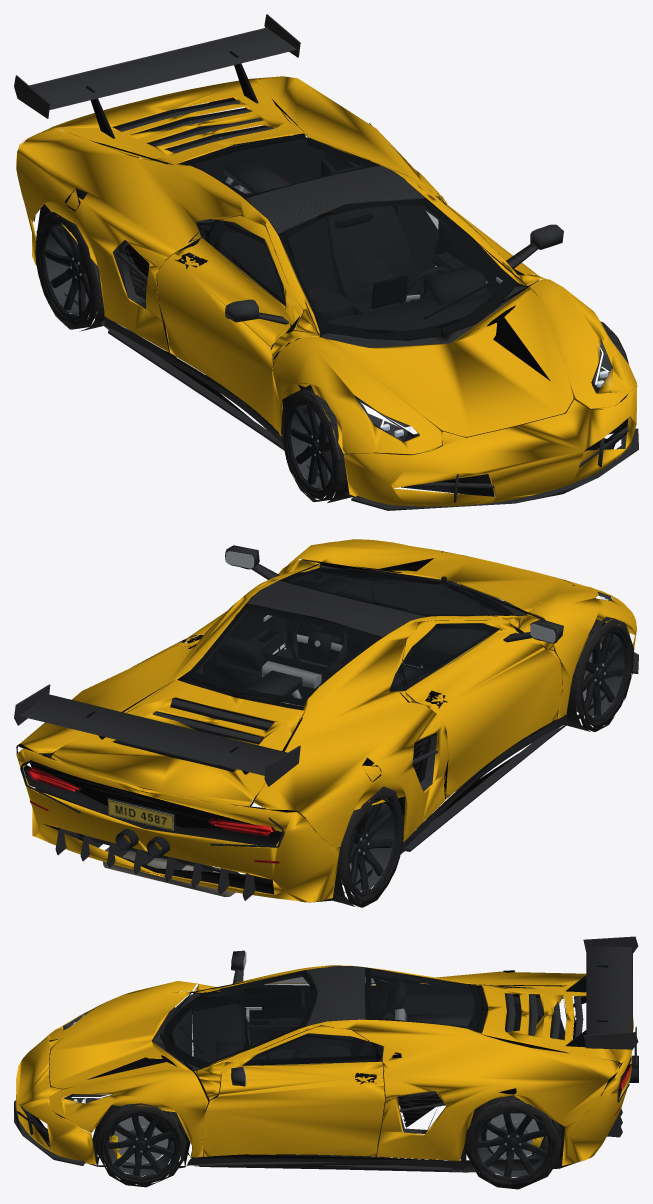
Rendered from mid-engine-supercar.glb.
The picture shows the model from 3 angles, top to bottom: view 1: azimuth 30°, elevation 25°; view 2: azimuth 150°, elevation 25°; view 3: azimuth 270°, elevation 25°; orthographic projection. The views are drawn at different scales.
Parts seen in each view (by area): view 1: Body, Wheel_RR, Wheel_FR; view 2: Body, Wheel_RR, Wheel_FR, Steering_Wheel; view 3: Body, Wheel_RL, Wheel_FL.
Part boxes in pixels (x1,y1,x2,y2): Body: [14, 14, 638, 510]; Wheel_RR: [35, 211, 146, 331]; Wheel_FR: [281, 387, 354, 503]; Body: [14, 539, 638, 902]; Wheel_RR: [333, 786, 404, 907]; Wheel_FR: [561, 616, 634, 731]; Steering_Wheel: [289, 621, 347, 663]; Body: [14, 936, 638, 1172]; Wheel_RL: [464, 1095, 561, 1189]; Wheel_FL: [95, 1103, 186, 1187].
Size of the model in its own units: 2.14 by 1.15 by 4.44.
59 materials, 12 textured.
